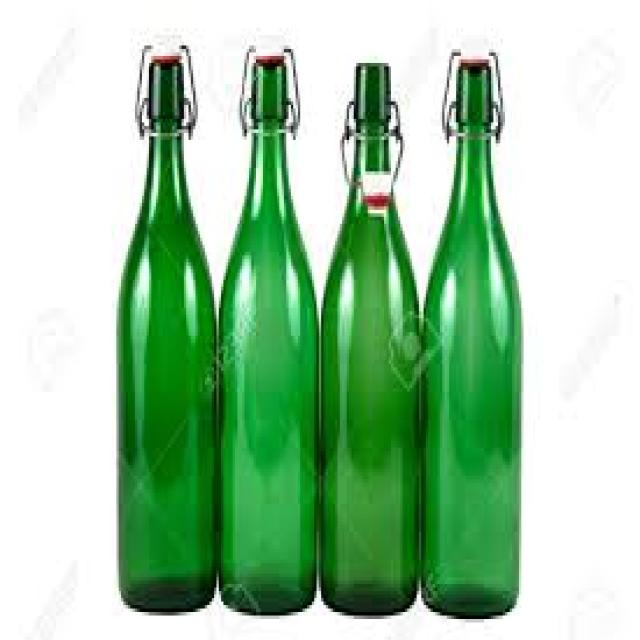glass: (214, 42, 317, 612), (316, 60, 419, 616), (117, 42, 217, 608), (419, 46, 517, 616)
